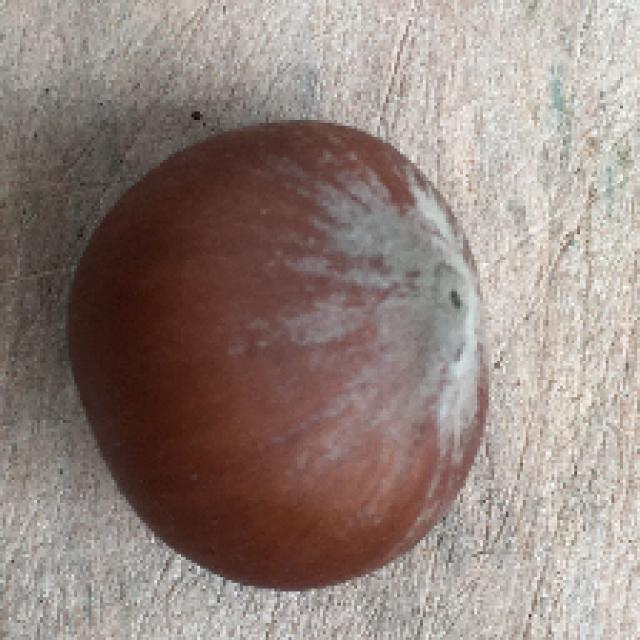qualityHazelnut: (69, 119, 490, 592)
